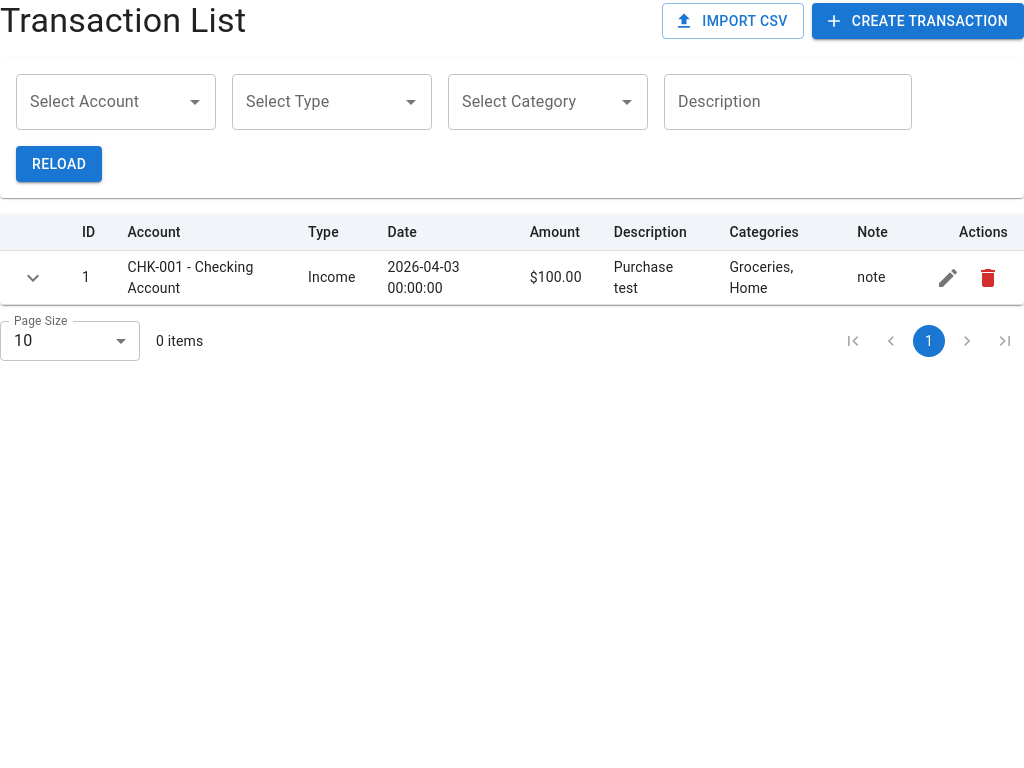
Scenario: TransactionList › renders data rows
Expected: the text "Purchase test" is shown, [598,251,713,304]
Expected: the button "Create Transaction" is shown, [812,3,1023,39]
Note: expand row
Click the button named "Expand row" at point(33, 278), box [16,260,50,294]
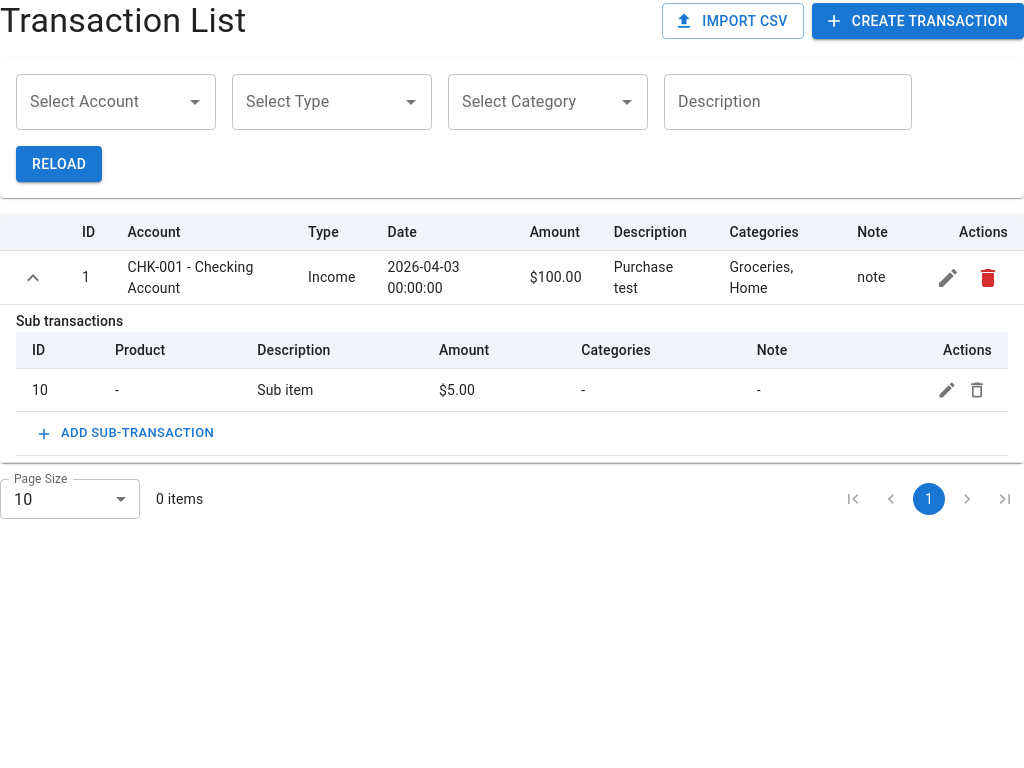
Expected: the text "Sub item" is shown, [241,369,423,412]
Expected: the button named "edit sub 10" is shown, [932,376,962,406]
Expected: the button named "delete sub 10" is shown
Note: delete sub transaction via dialog
Click the button named "delete sub 10" at point(977, 390), box [962,376,992,406]
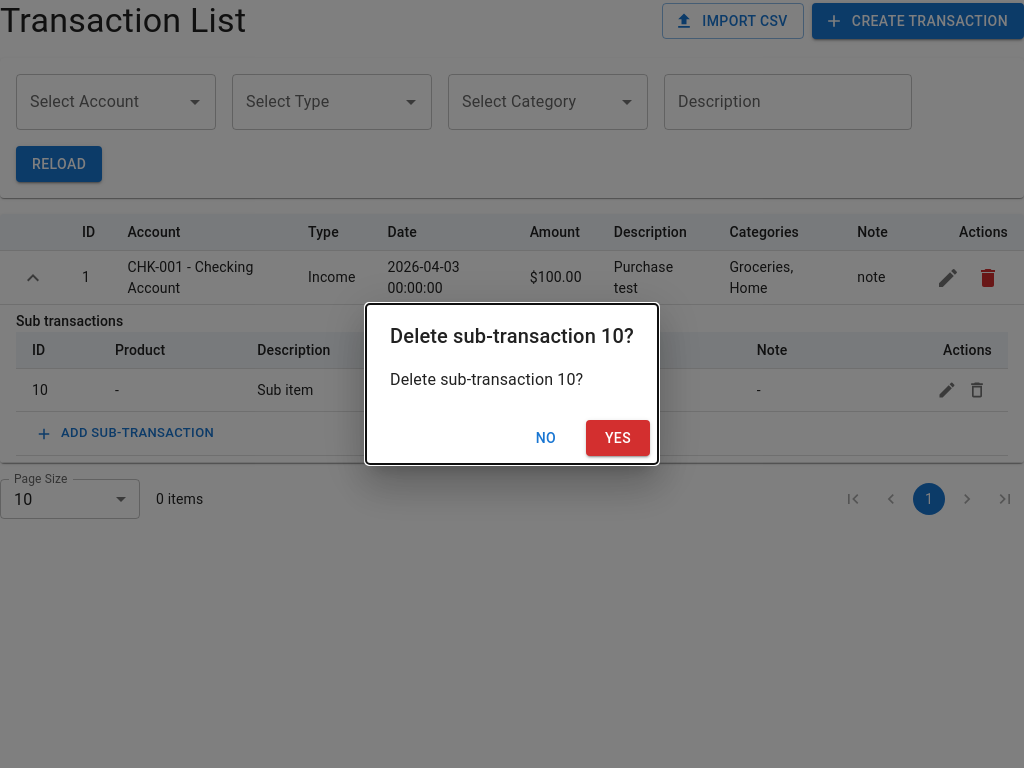
Click the button "Yes" at point(618, 438), box [586,420,650,456]
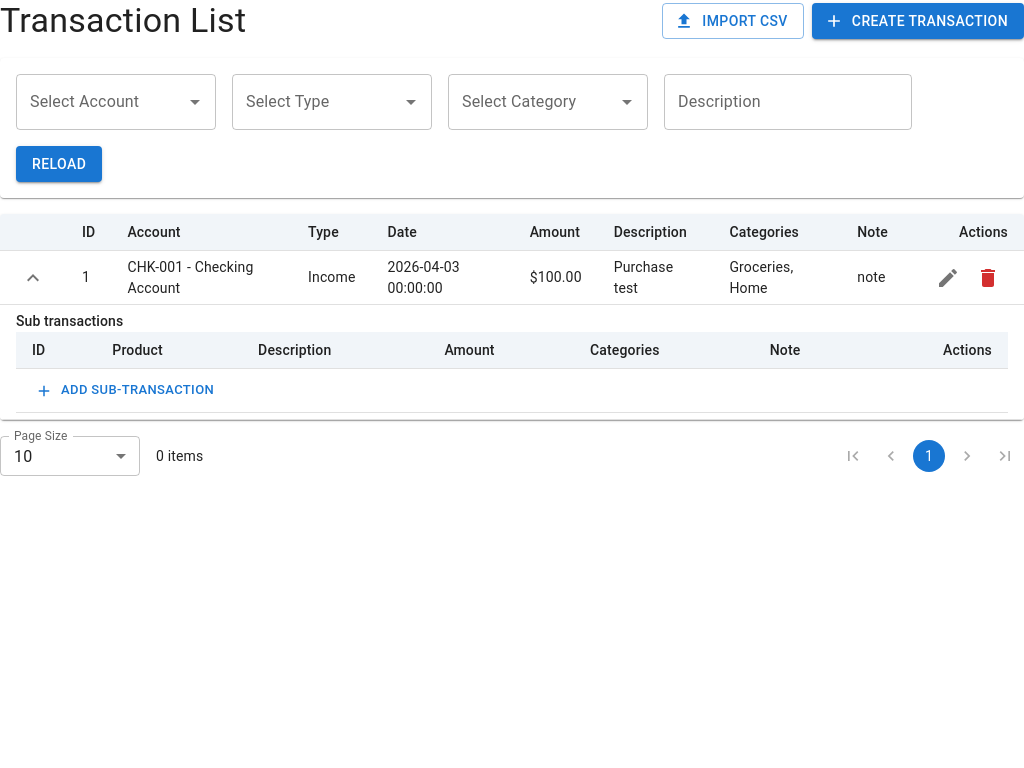
Expected: the text "Sub item" is gone
